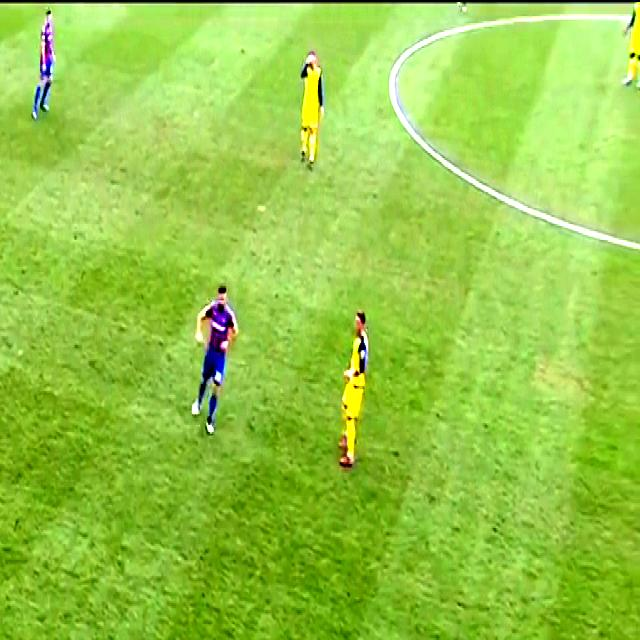soccer-player: (178, 283, 251, 446), (327, 308, 385, 478), (292, 40, 338, 167), (27, 8, 69, 123), (617, 0, 640, 96)
